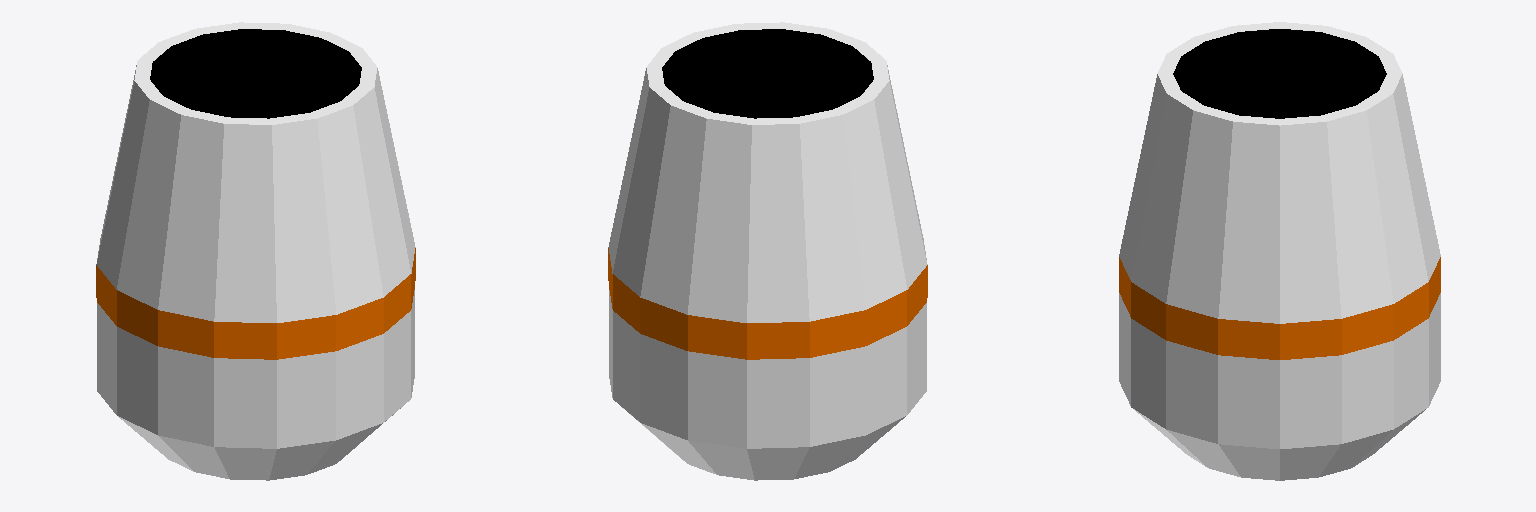
File: Cannon.obj
The picture shows the model from 3 angles: view 1: azimuth 30°, elevation 25°; view 2: azimuth 150°, elevation 25°; view 3: azimuth 270°, elevation 25°; orthographic projection.
Parts seen in each view (by area): view 1: Cannon; view 2: Cannon; view 3: Cannon.
Boxes of the visible parts, x1,y1,x2,y2 form: Cannon: [96, 22, 415, 480]; Cannon: [608, 22, 927, 480]; Cannon: [1119, 22, 1440, 480].
Bounding box in the file's own units: 2 × 2.5 × 2.